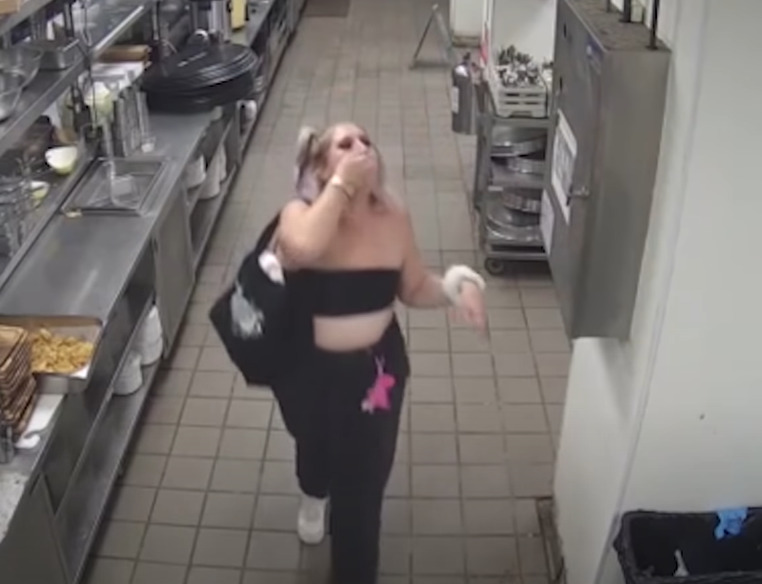person: (266, 119, 489, 584)
